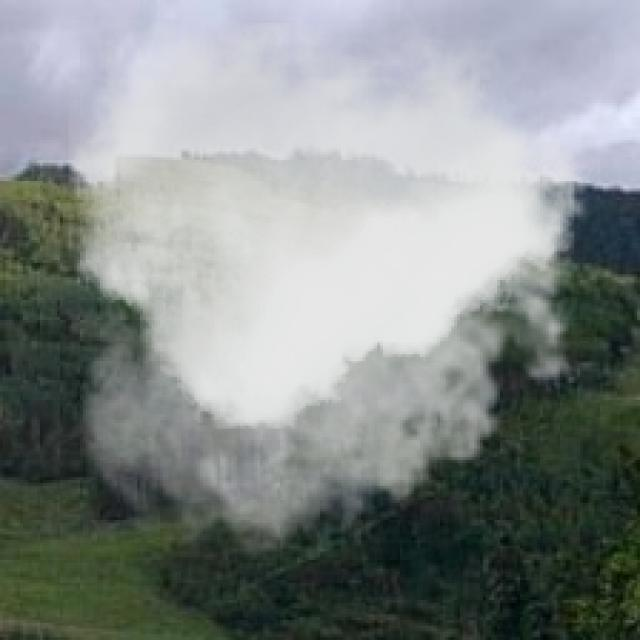smoke: (69, 23, 606, 571)
